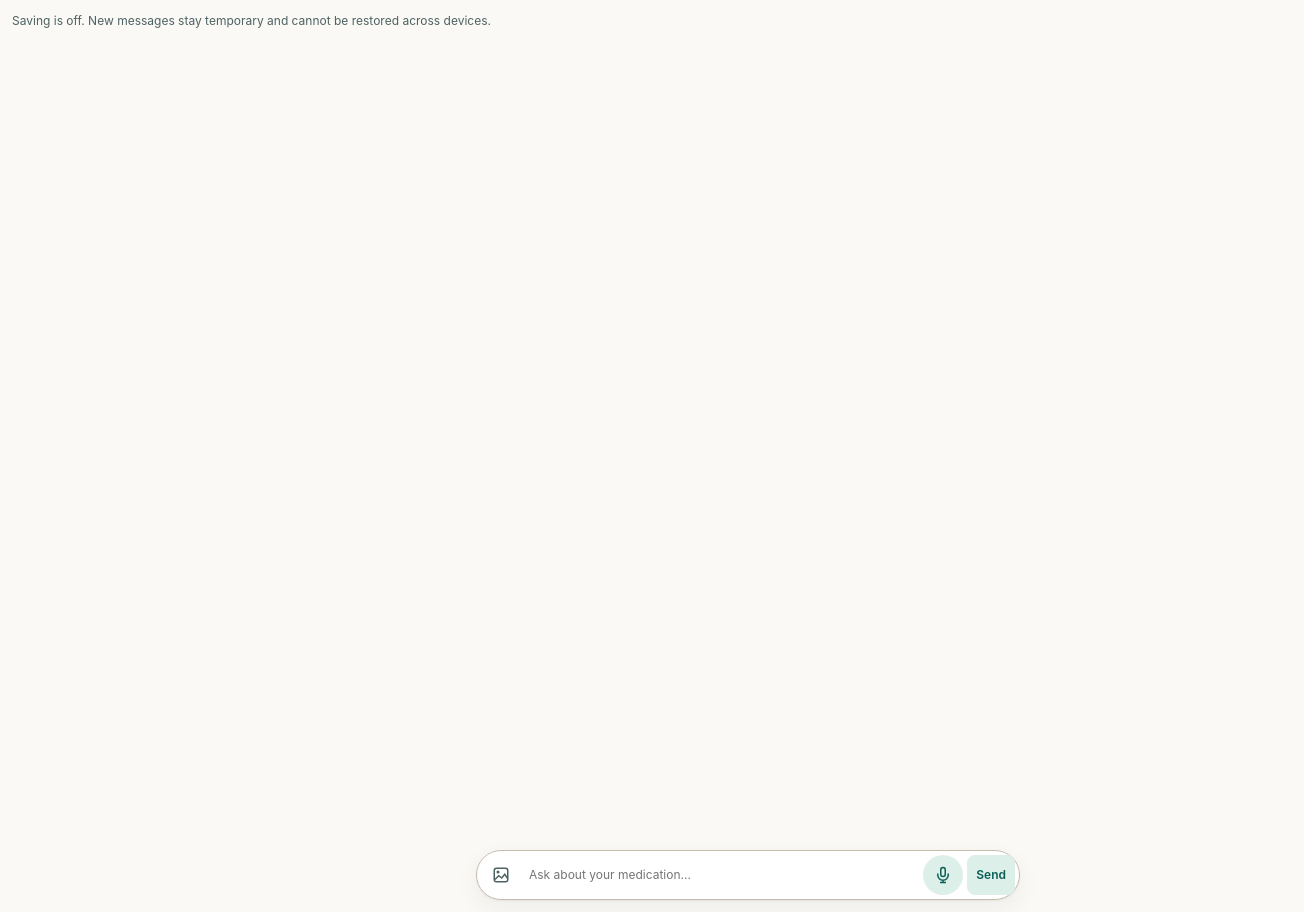
Scenario: shows intentional revocation as no-save without reporting a storage outage
This screenshot has width=1304, height=912.
In the field: {"x": 722, "y": 875} [525,855,919,895], type "DEMO request"
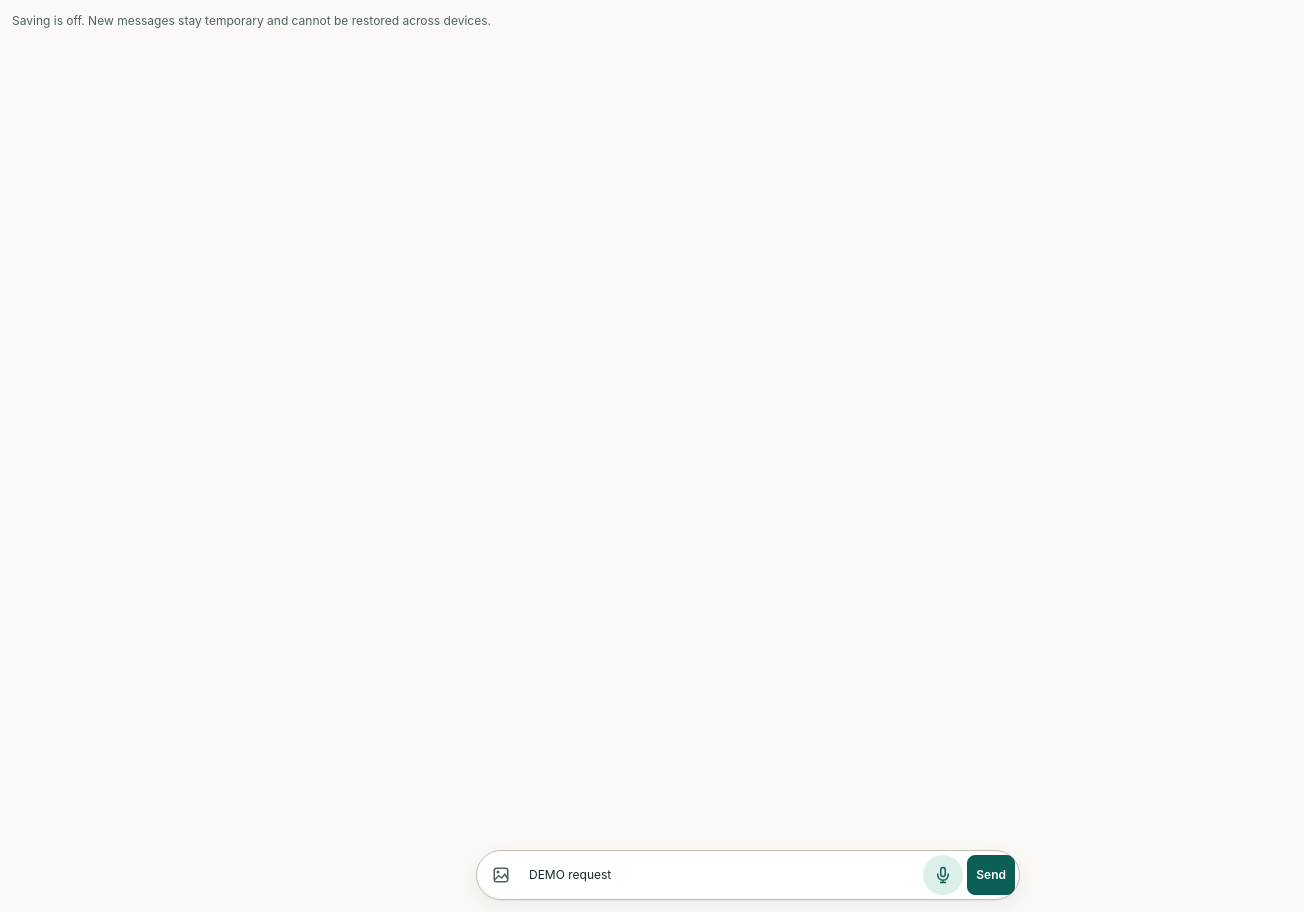
Click the button "Send": {"x": 991, "y": 875} [967,855,1015,895]
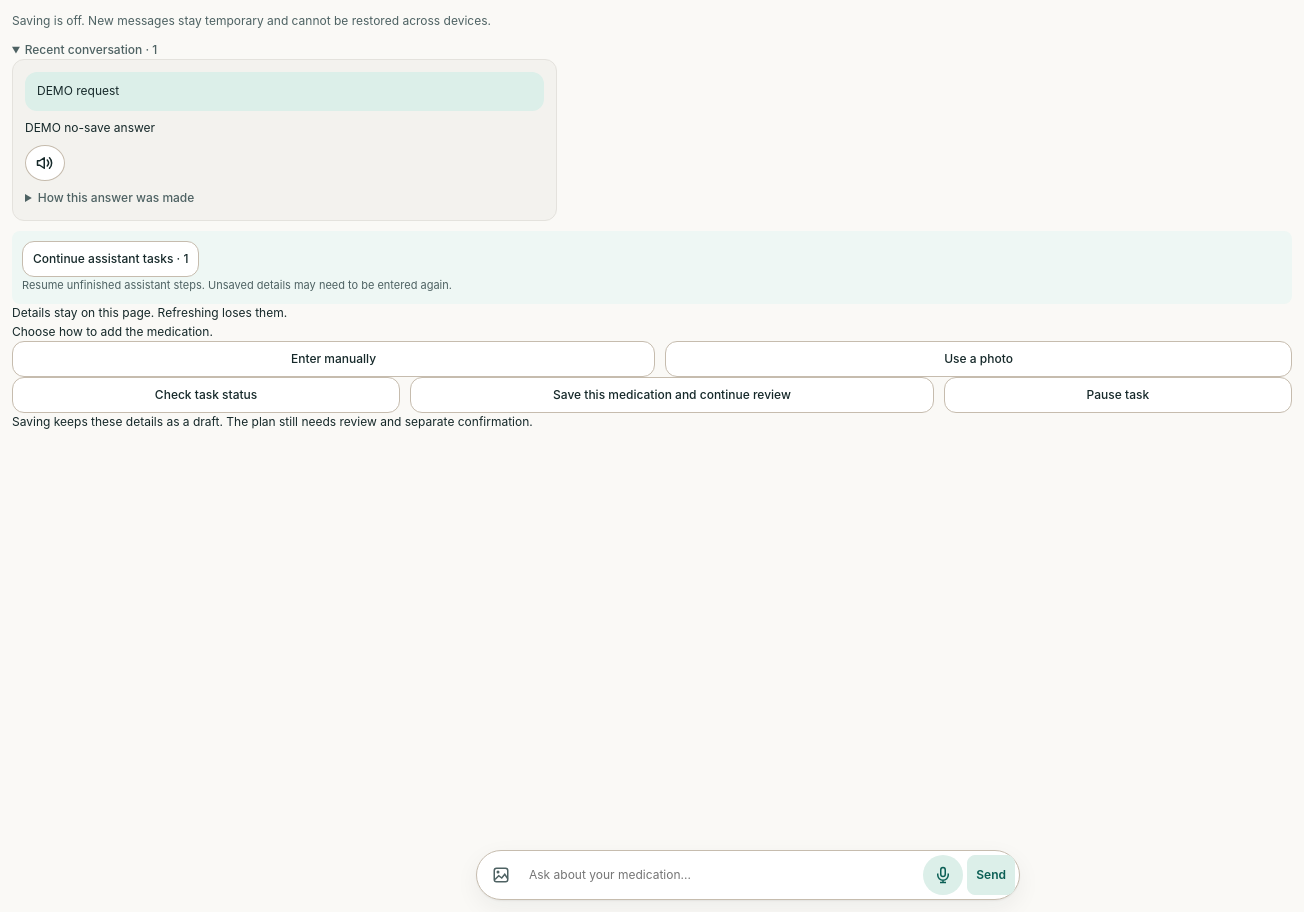
Expected: the text "DEMO no-save answer" is shown, [25,120,155,135]
